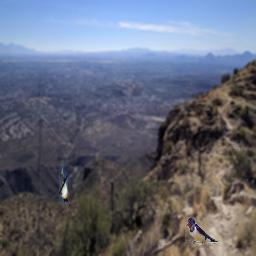Swallow: (185, 217, 223, 247), (59, 164, 68, 204)
